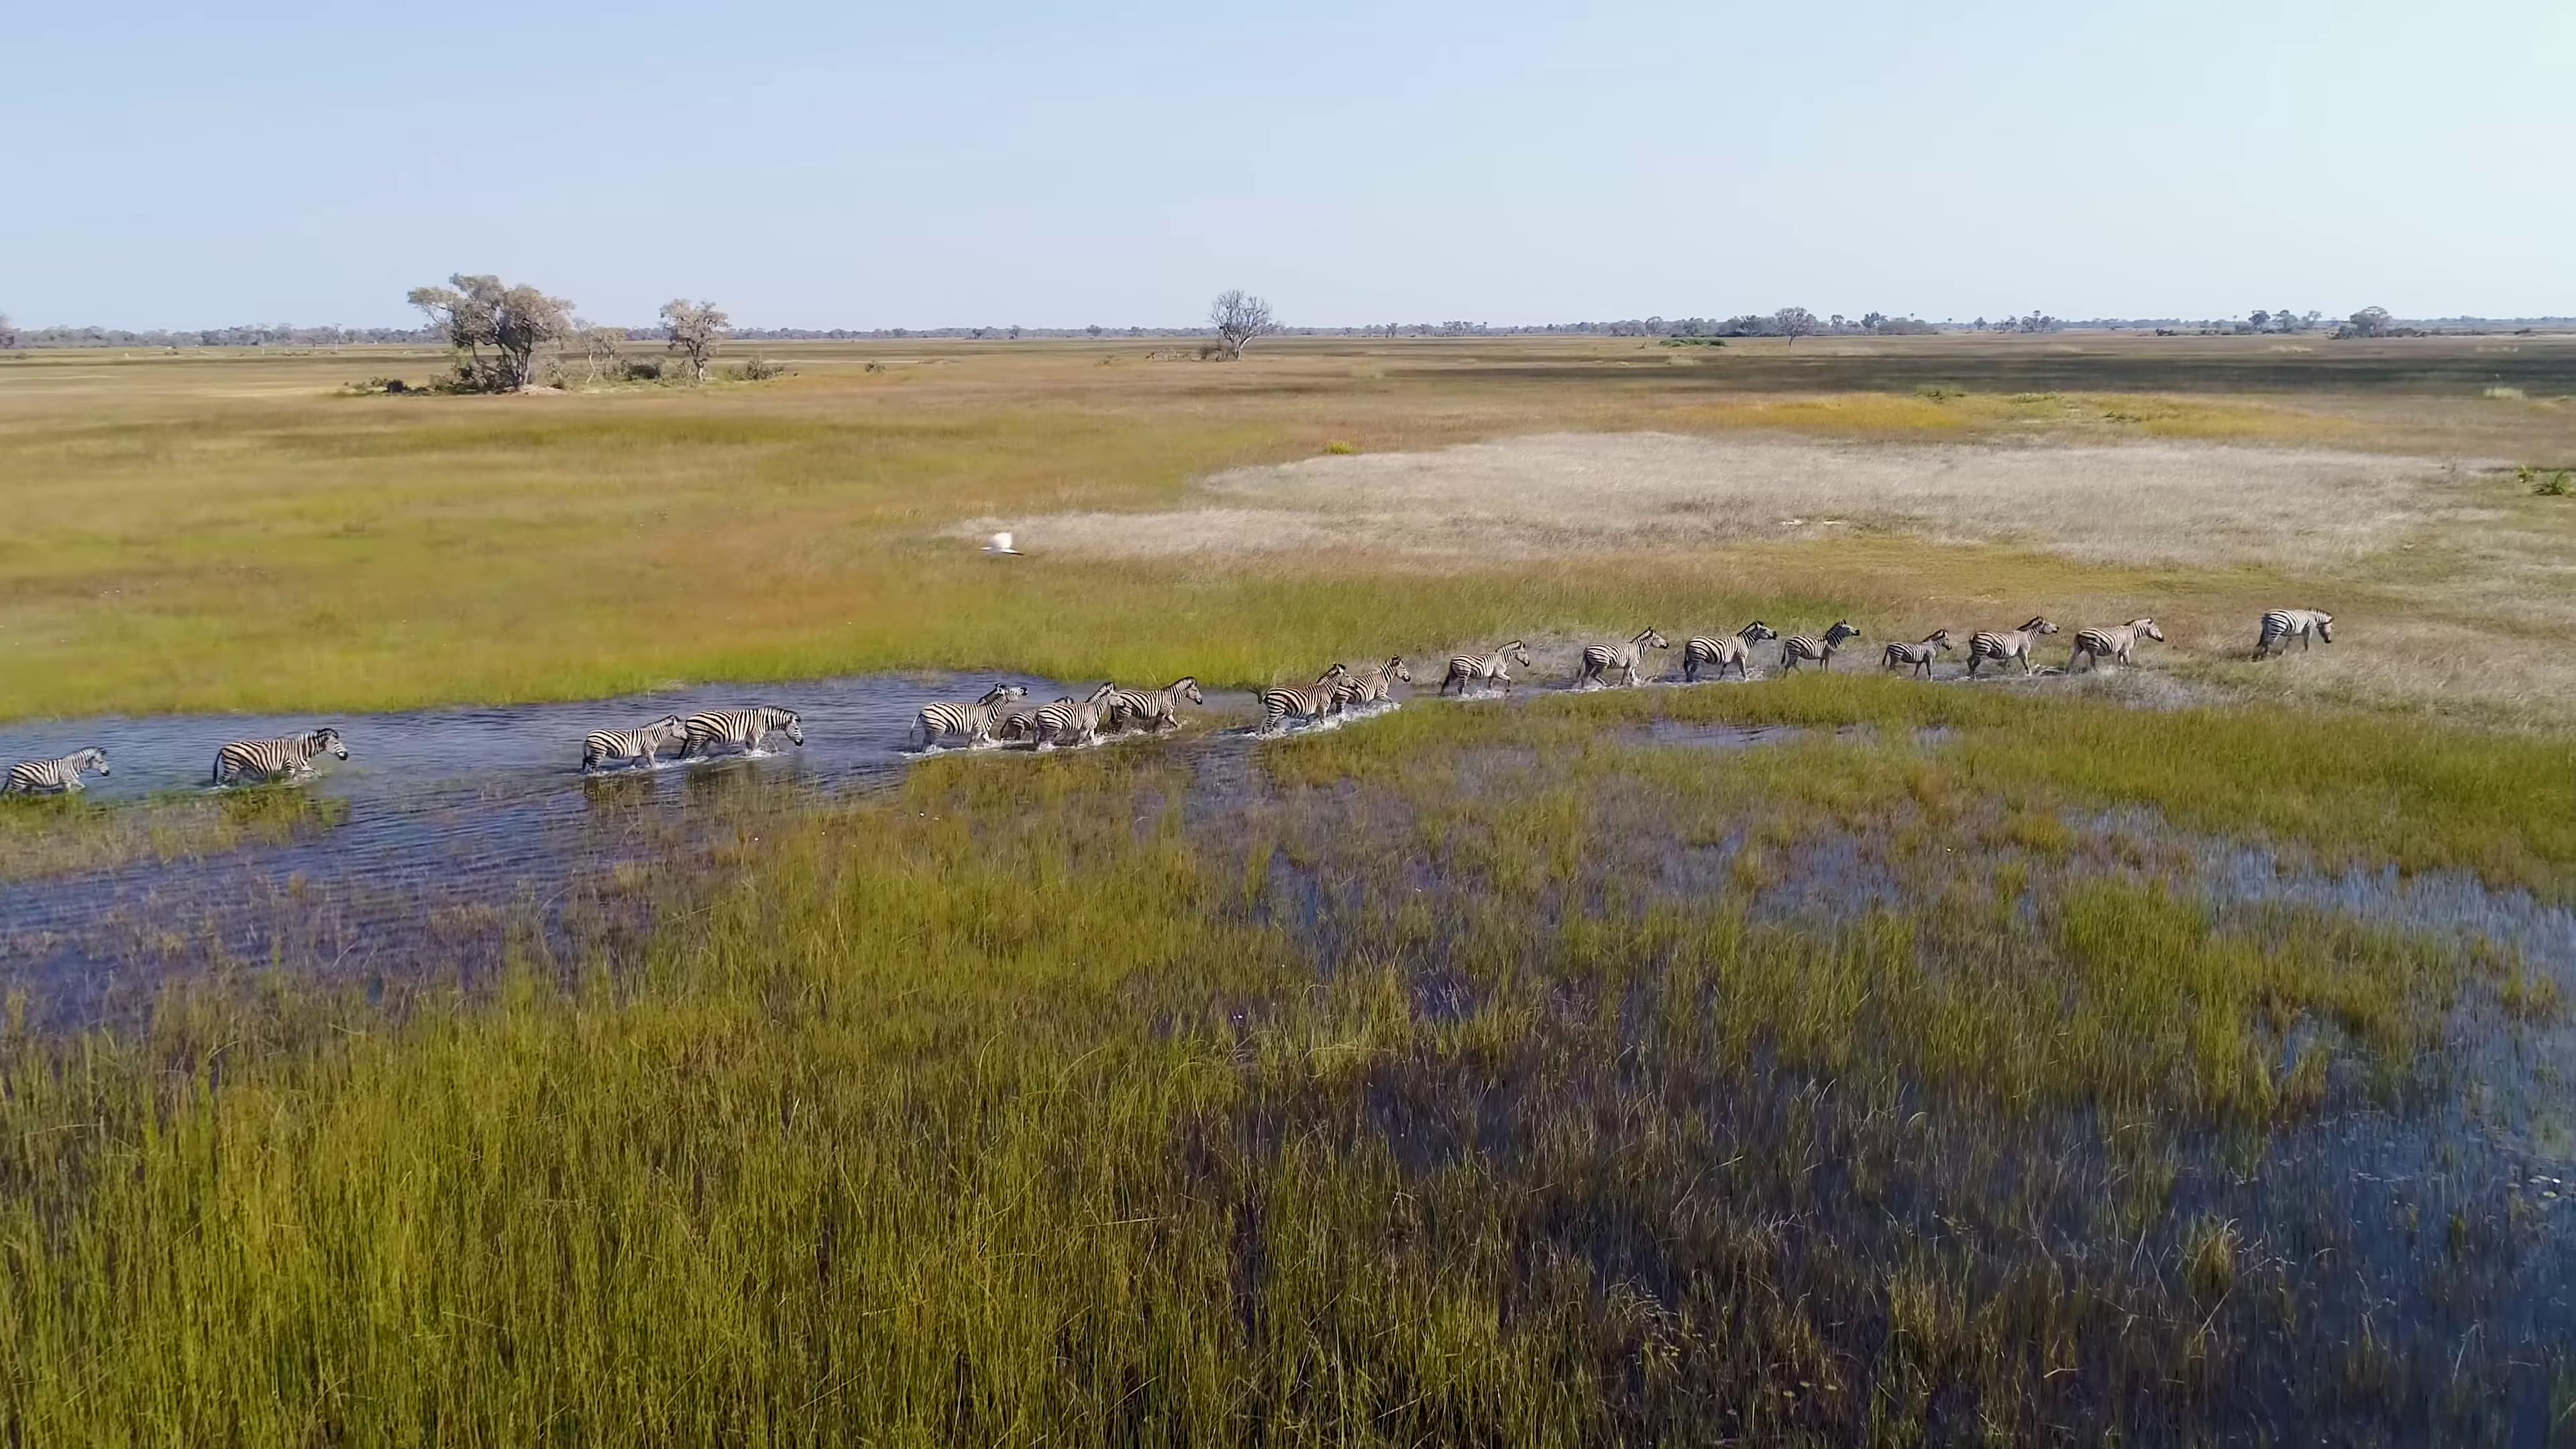Zebra: (203, 720, 356, 810), (904, 678, 1031, 768), (678, 701, 807, 786), (1246, 655, 1361, 745), (570, 713, 692, 789), (1568, 621, 1672, 701), (2, 734, 115, 807), (1675, 610, 1778, 686), (1033, 678, 1127, 761), (1104, 669, 1208, 741), (2061, 612, 2169, 681), (1964, 610, 2061, 681), (1437, 637, 1537, 704), (1776, 612, 1863, 683), (1329, 648, 1414, 717), (996, 686, 1079, 755), (2252, 600, 2339, 665), (1879, 623, 1959, 679)
